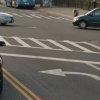Car: (69, 4, 100, 38)
